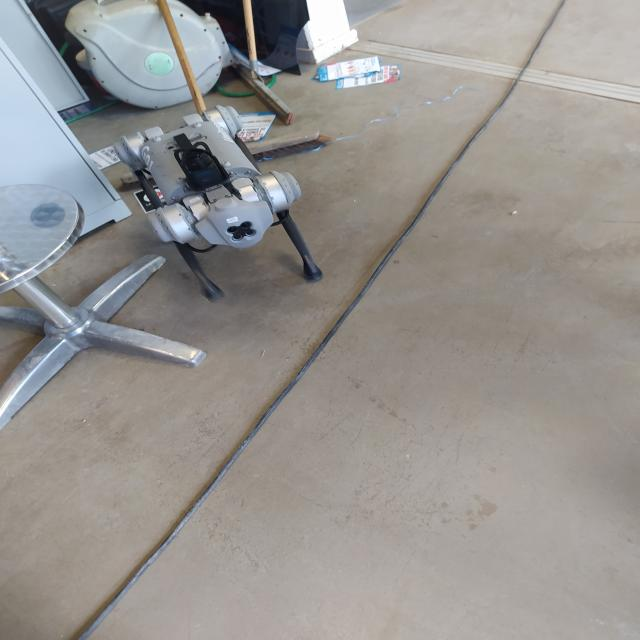unitree-go1-robot: (95, 97, 343, 306)
